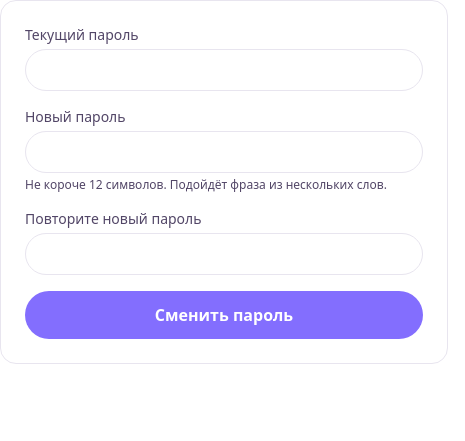
Test case: <ChangePasswordForm> › новый равен текущему: ошибка у формы, запрос не уходит
Type "новый-надёжный-пароль" into the password field labelled "Текущий пароль" at (224, 70), box [25, 49, 423, 91]
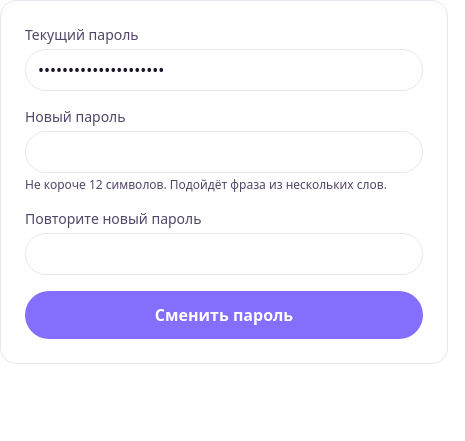
Type "новый-надёжный-пароль" into the password field labelled "Новый пароль" at (224, 152), box [25, 131, 423, 173]
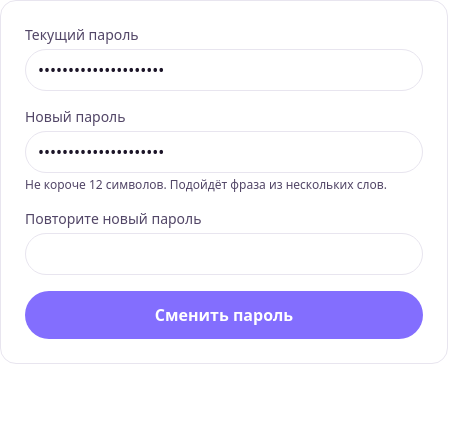
Type "новый-надёжный-пароль" into the password field labelled "Повторите новый пароль" at (224, 254), box [25, 233, 423, 275]
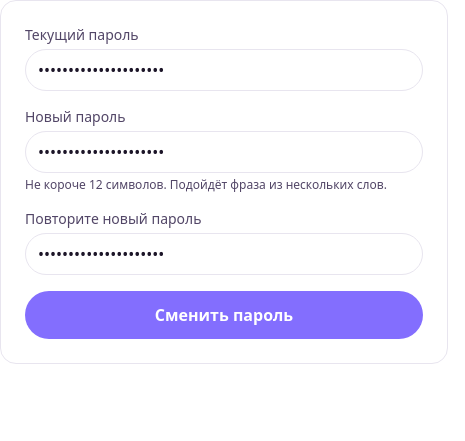
Click the button "Сменить пароль" at (224, 315), box [25, 291, 423, 339]
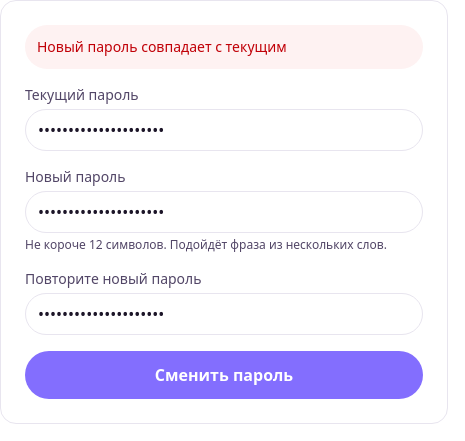
Check: the message shows "совпадает с текущим", box [37, 37, 287, 56]
